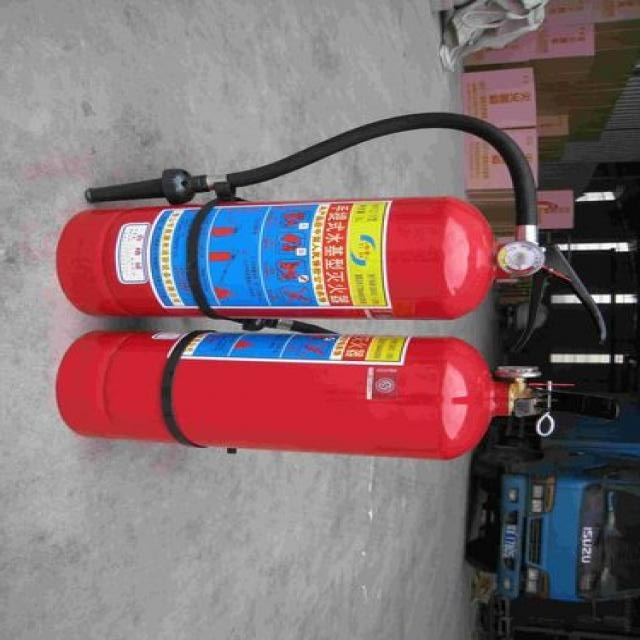fire extinguisher: (42, 109, 623, 466)
